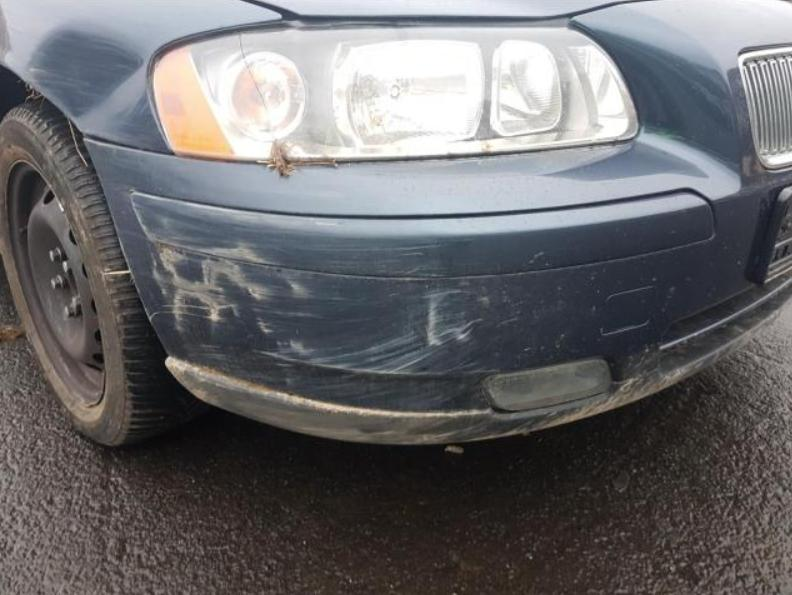Fender: (0, 0, 282, 156)
Front-bumper: (82, 0, 792, 445)
Front-wheel: (0, 99, 211, 446)
Grille: (737, 45, 792, 173)
Headlight: (149, 18, 640, 164)
Hood: (251, 0, 634, 19)
License-plate: (750, 185, 792, 287)
